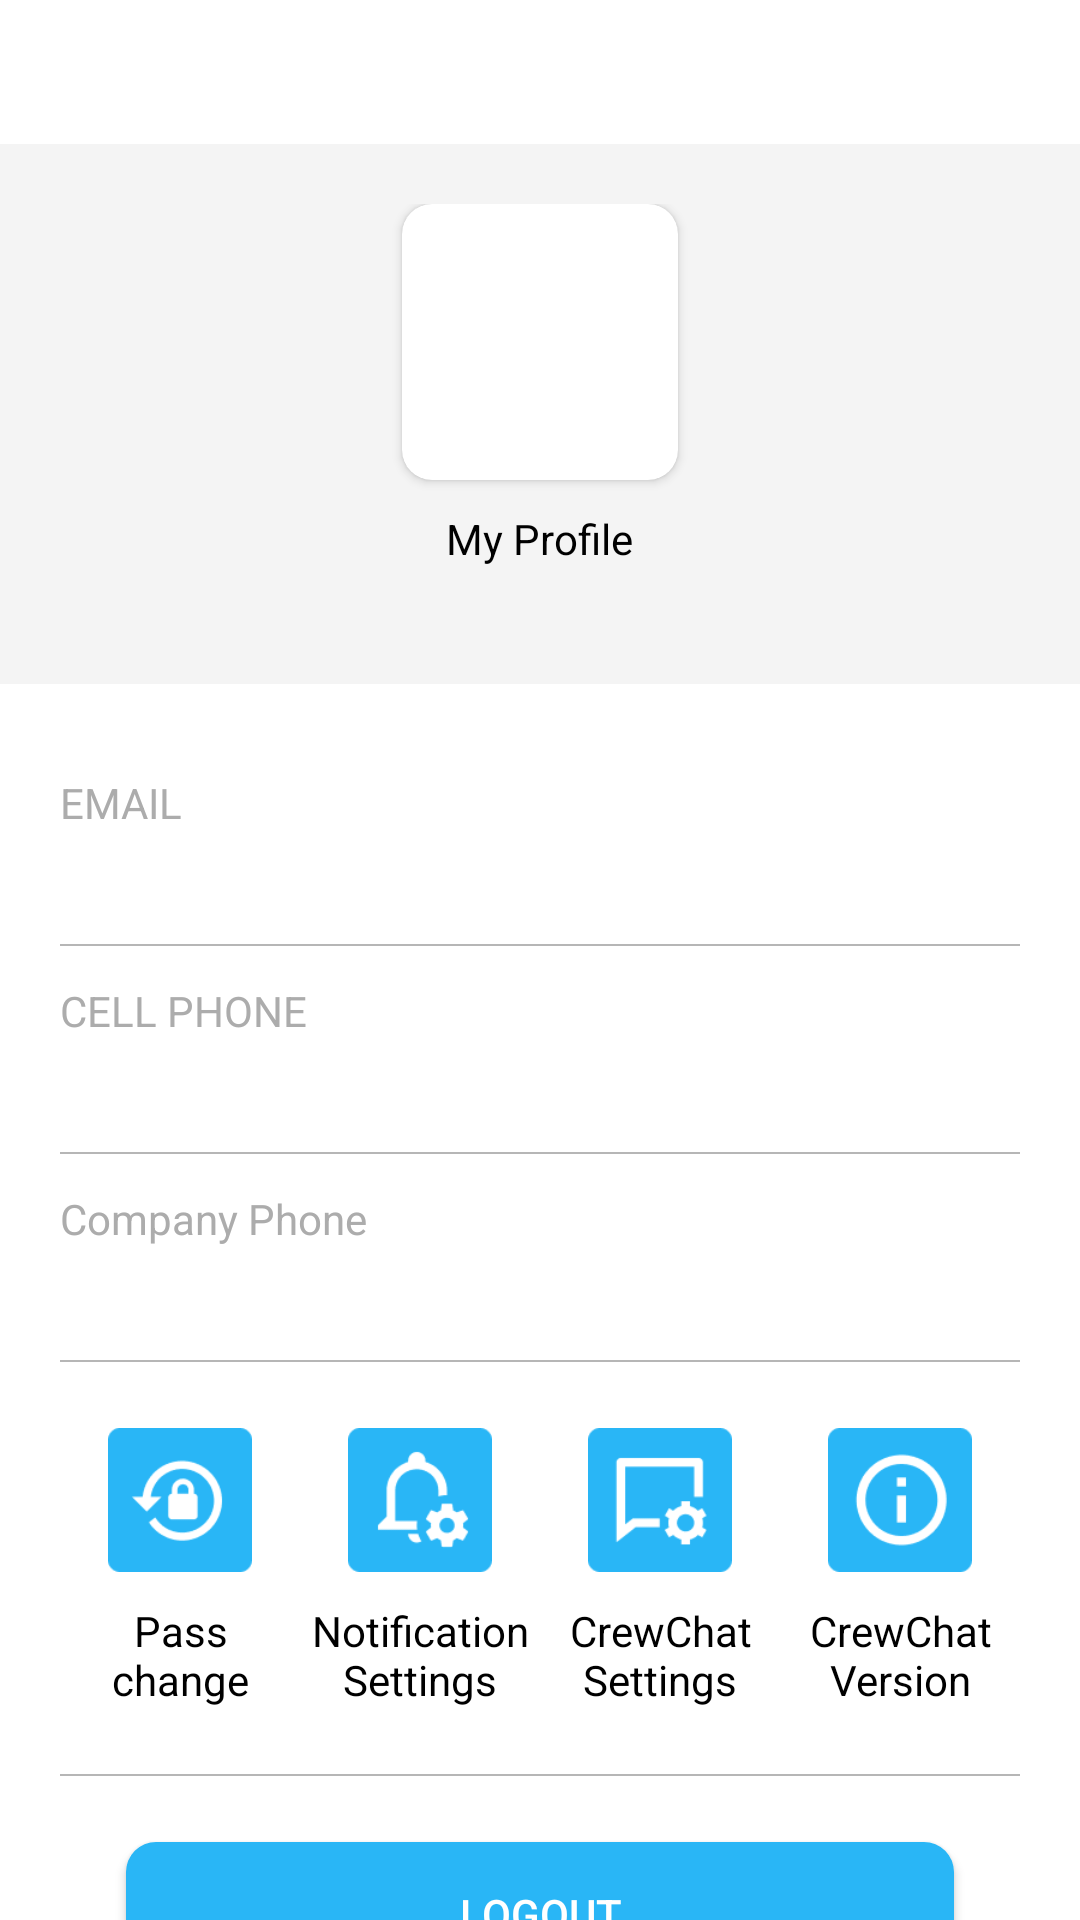

Icon click points for this 1080 x 1920 phone screenshot, format [x,y]:
chang pw: [180,1500]
info: [900,1500]
